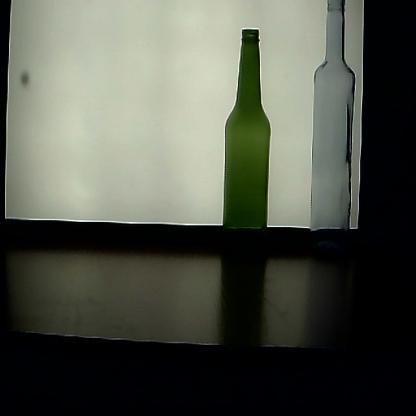Can: (221, 24, 277, 276), (304, 4, 356, 270)
